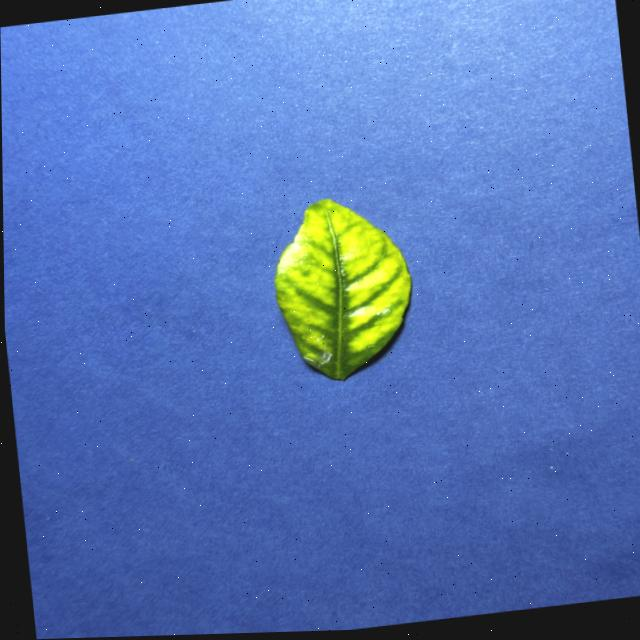greening: (275, 199, 410, 379)
